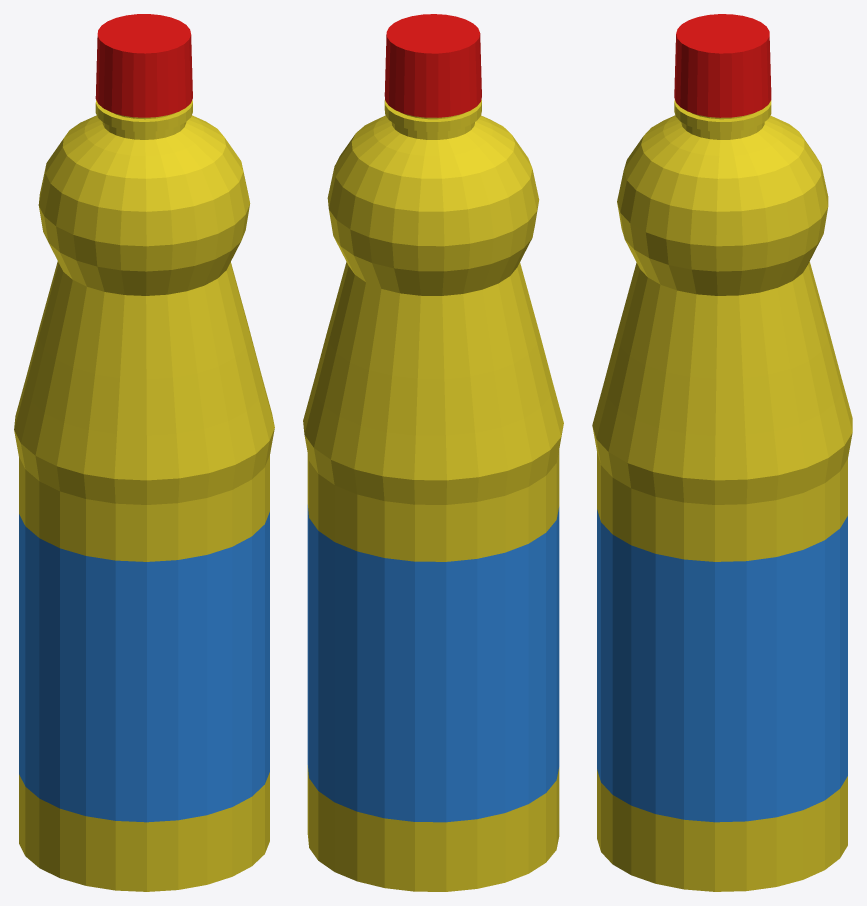
File: CleanBottle2.fbx
The picture shows the model from 3 angles, left to right: view 1: azimuth 30°, elevation 25°; view 2: azimuth 150°, elevation 25°; view 3: azimuth 270°, elevation 25°; orthographic projection.
Visible parts, largest first — view 1: CleanerBottle2; view 2: CleanerBottle2; view 3: CleanerBottle2.
Boxes of the visible parts, bbox=[...] form: CleanerBottle2: bbox=[14, 14, 274, 891]; CleanerBottle2: bbox=[303, 14, 563, 891]; CleanerBottle2: bbox=[592, 14, 852, 891].
Bounding box in the file's own units: 1.22 × 1.22 × 4.16.
